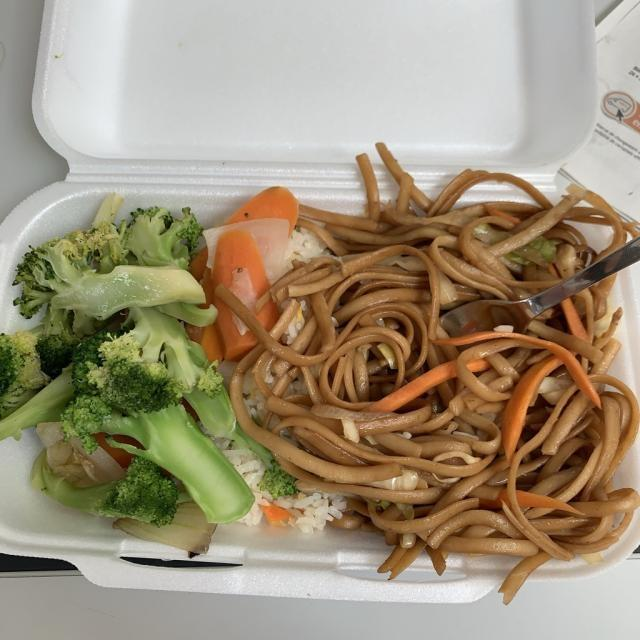broccoli: (0, 203, 297, 512)
carrot: (36, 202, 298, 499)
pasta: (255, 155, 617, 576)
